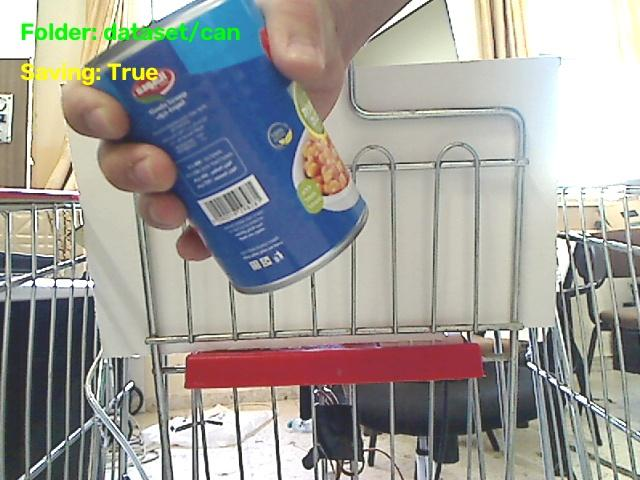can: (88, 0, 367, 293)
